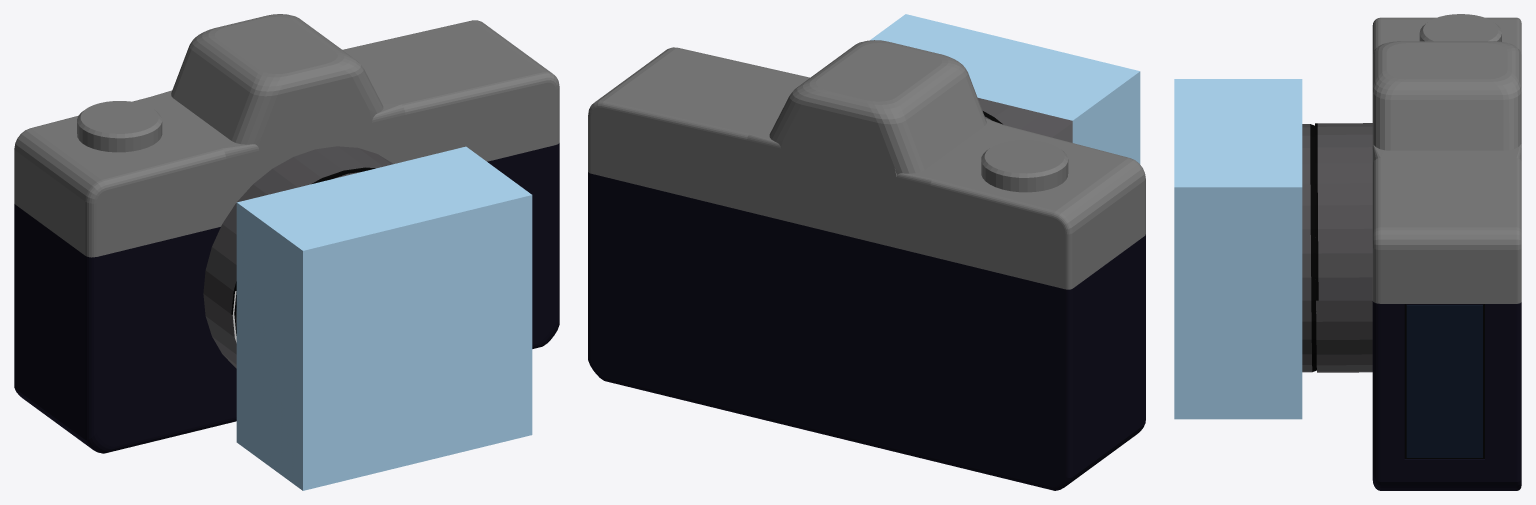
The model's file is Lalangas.glb.
3 renders of one model, left to right at view 1: azimuth 30°, elevation 25°; view 2: azimuth 150°, elevation 25°; view 3: azimuth 270°, elevation 25°, orthographic. The views are drawn at different scales.
Visible parts, largest first — view 1: Cubo, Esfera; view 2: Cubo, Esfera; view 3: Cubo, Esfera.
Part boxes in pixels (x1,y1,x2,y2): Cubo: [14, 14, 559, 453]; Esfera: [236, 146, 532, 490]; Cubo: [588, 40, 1145, 490]; Esfera: [870, 14, 1140, 164]; Cubo: [1302, 14, 1521, 490]; Esfera: [1174, 79, 1302, 419].
Bounding box in the file's own units: 3.63 × 2.43 × 2.38.
